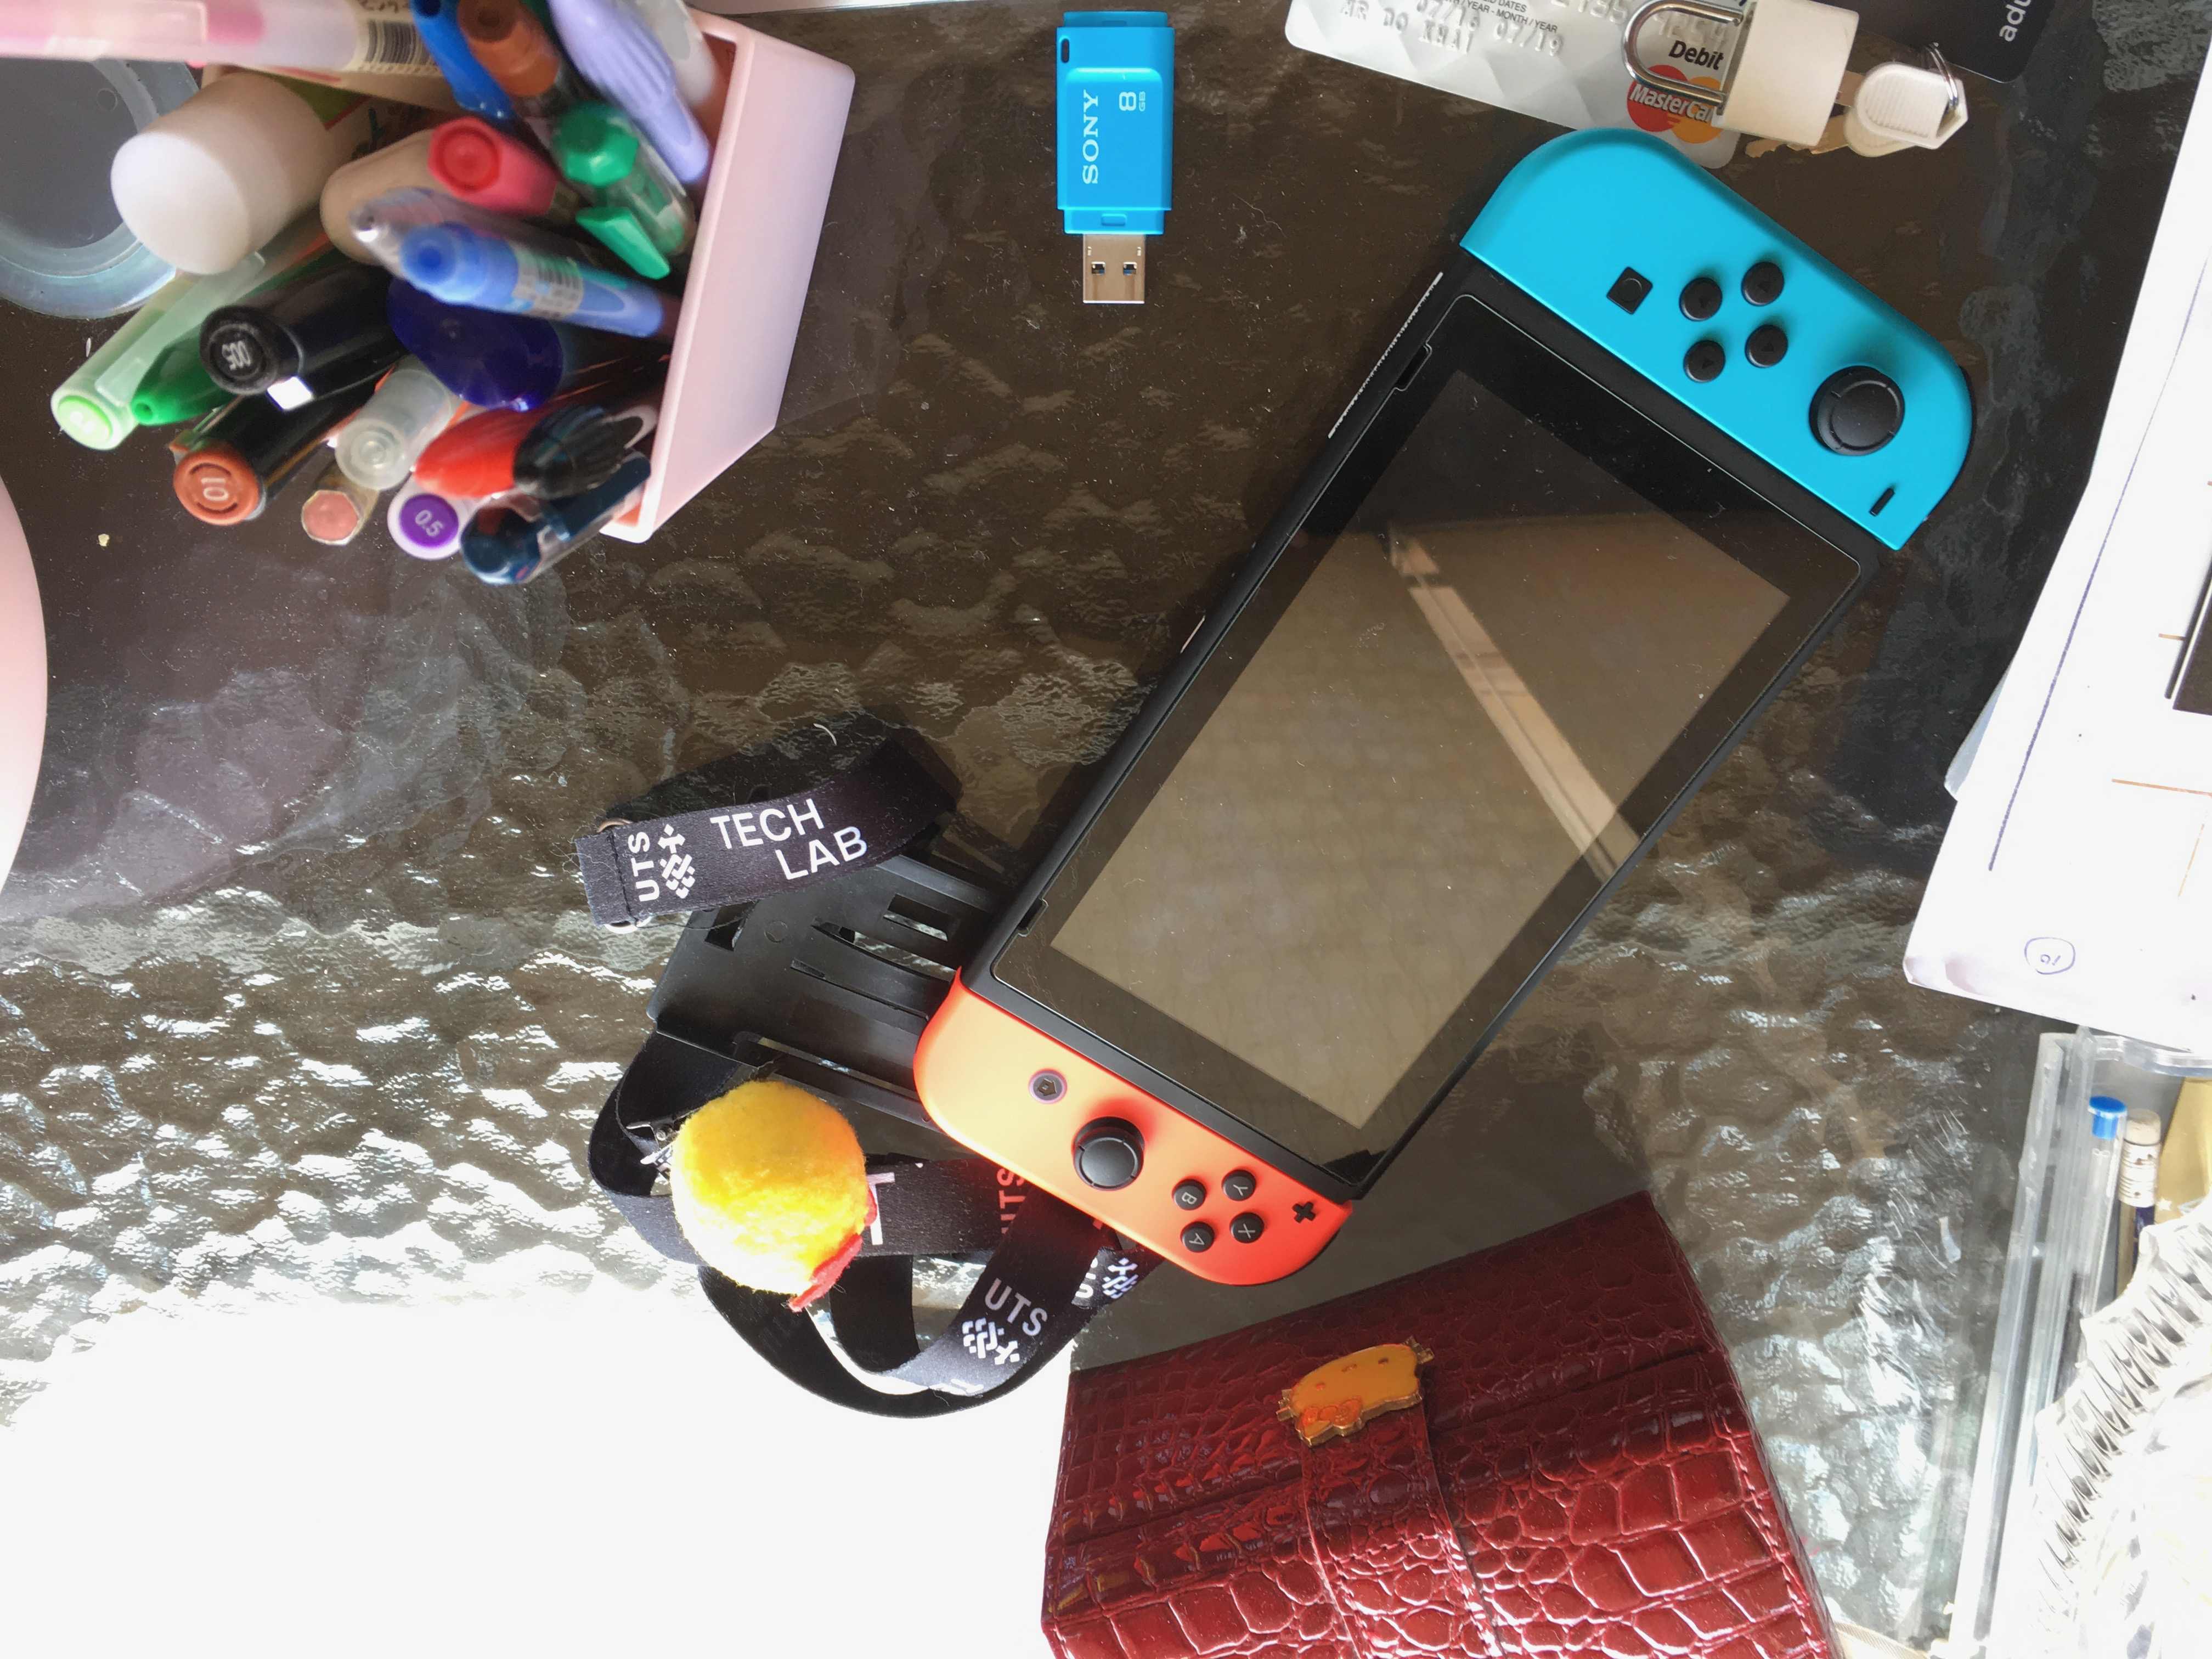NintendoSwitch: (900, 127, 1993, 1298)
